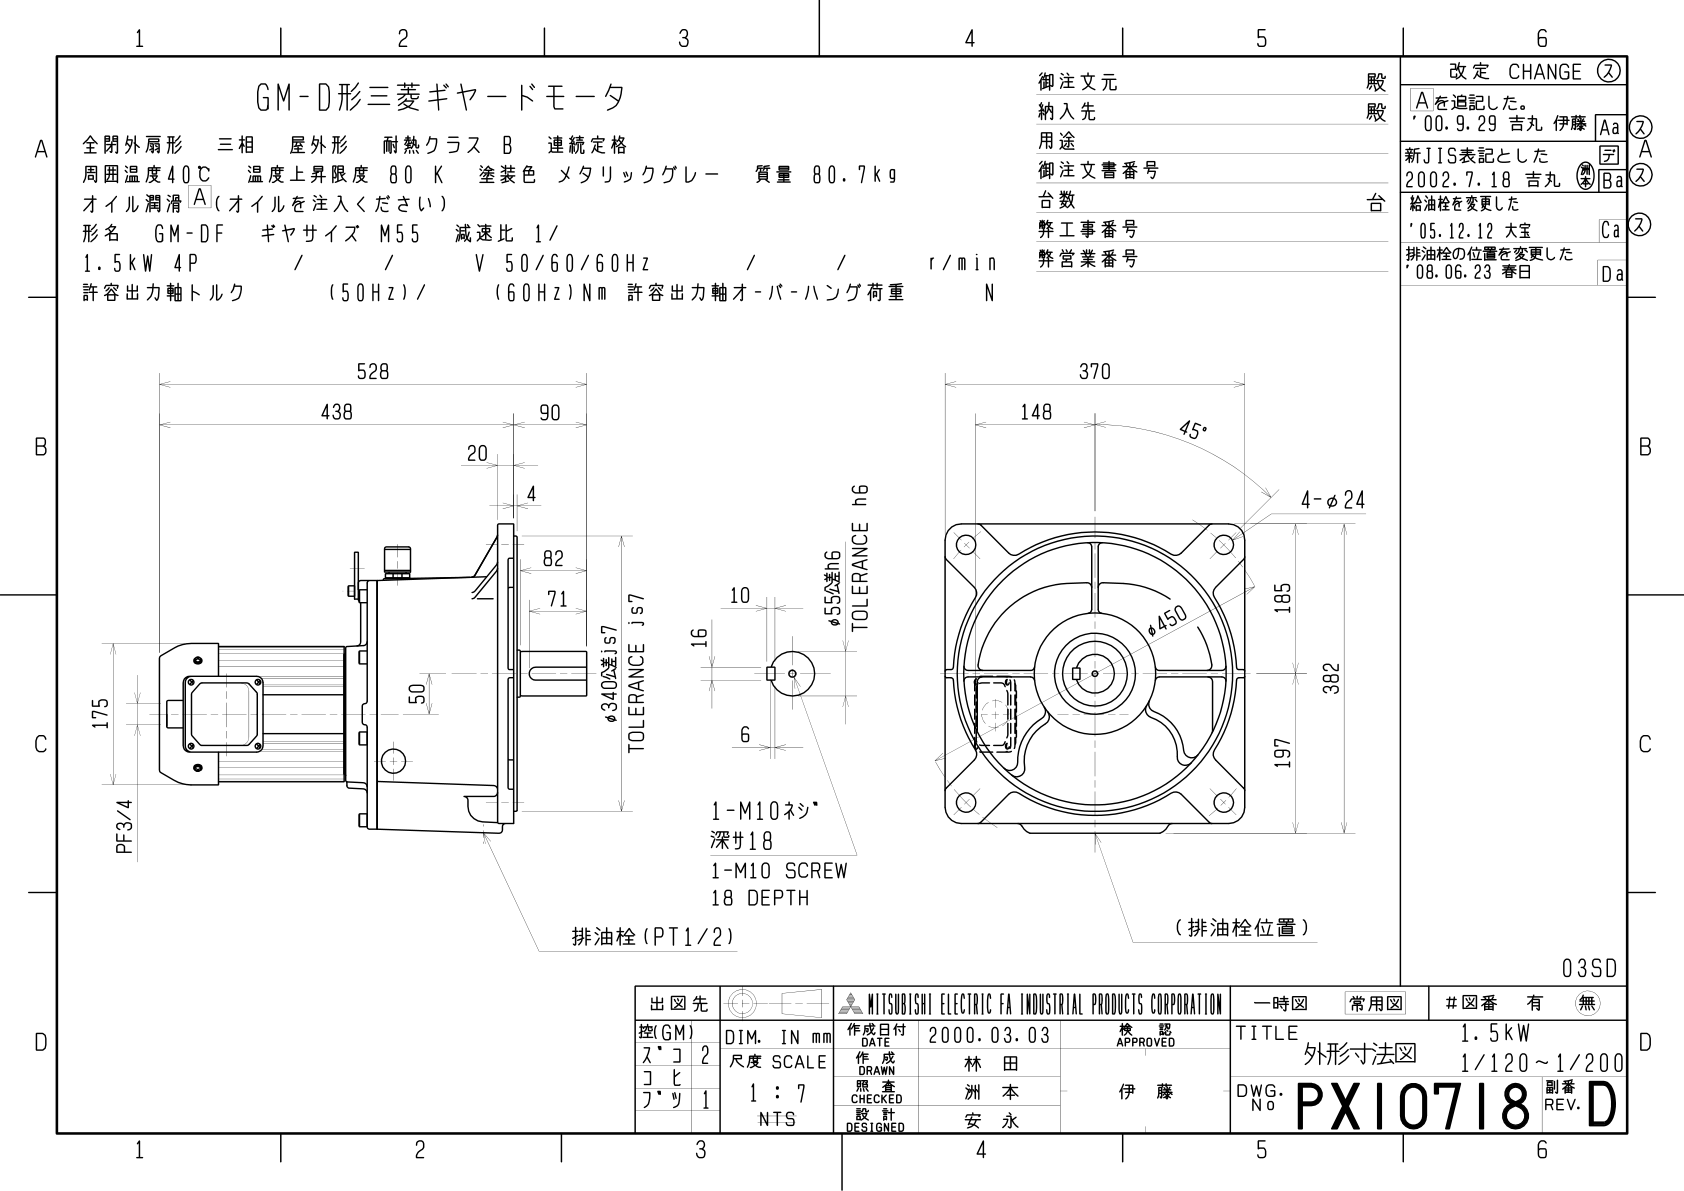GM_D_屋外＿三相_フランジ: (1, 1, 1669, 1181)
